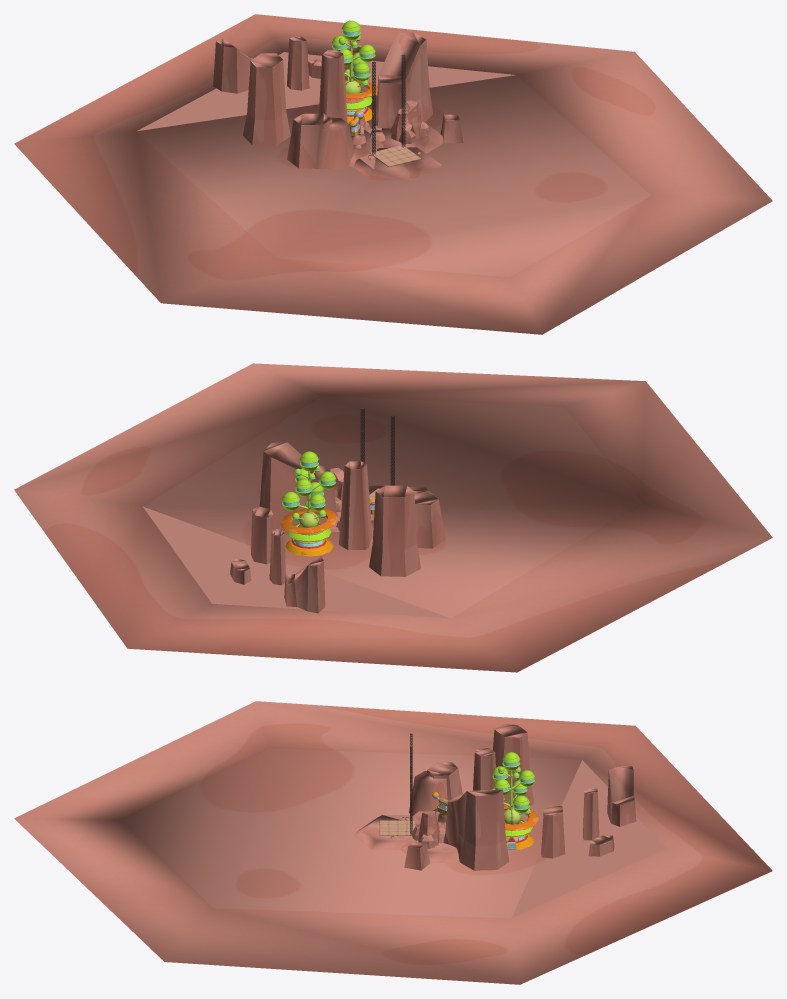
File: Background.glb
3 views of the same model, one above another, from view 1: azimuth 30°, elevation 25°; view 2: azimuth 150°, elevation 25°; view 3: azimuth 270°, elevation 25° (orthographic). The views are drawn at different scales.
Visible parts, largest first — view 1: brokenStone.001, brokenStone.003, brokenStone.009, GamePalace, brokenStone.002, tallStone.001, Plane; view 2: brokenStone.001, brokenStone.003, brokenStone.009, GamePalace; view 3: brokenStone.001, brokenStone.003, brokenStone.009, GamePalace, brokenStone.002, tallStone.001, Plane.
Part boxes in pixels (bbox=[...]): brokenStone.001: bbox=[14, 14, 772, 334]; brokenStone.003: bbox=[243, 32, 463, 168]; brokenStone.009: bbox=[213, 36, 368, 93]; GamePalace: bbox=[332, 20, 377, 123]; brokenStone.002: bbox=[316, 117, 366, 170]; tallStone.001: bbox=[390, 100, 429, 143]; Plane: bbox=[370, 145, 421, 166]; brokenStone.001: bbox=[14, 363, 772, 672]; brokenStone.003: bbox=[259, 442, 445, 576]; brokenStone.009: bbox=[230, 506, 325, 613]; GamePalace: bbox=[280, 451, 337, 556]; brokenStone.001: bbox=[14, 701, 772, 984]; brokenStone.003: bbox=[404, 724, 533, 870]; brokenStone.009: bbox=[541, 766, 636, 858]; GamePalace: bbox=[491, 752, 538, 849]; brokenStone.002: bbox=[409, 771, 447, 822]; tallStone.001: bbox=[412, 811, 445, 848]; Plane: bbox=[379, 820, 415, 835].
Size of the model in its own units: 475 by 97.74 by 537.
6 materials, 6 textured.
